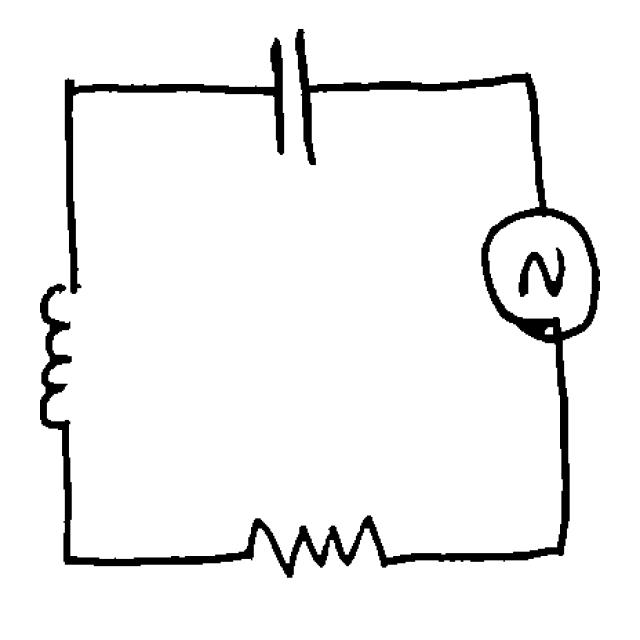ac: (466, 202, 605, 345)
capacitor: (255, 19, 327, 170)
inductor: (28, 267, 96, 450)
resistor: (225, 496, 405, 596)
